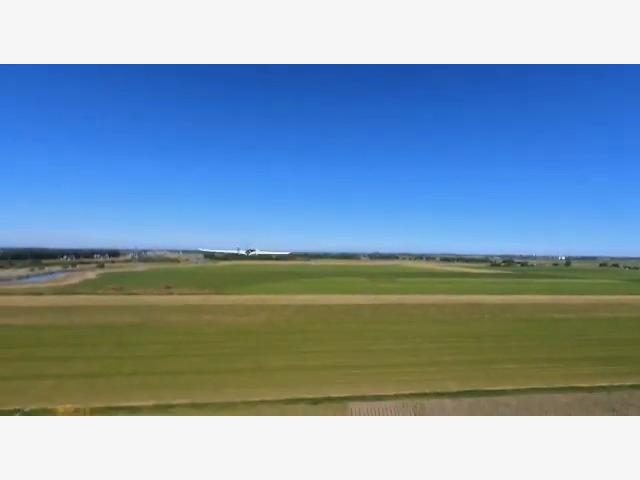Anti-Drone: (194, 235, 300, 281)
